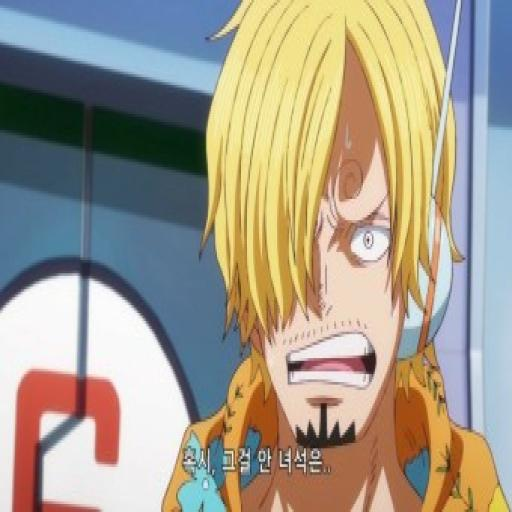sanji: (188, 16, 468, 496)
